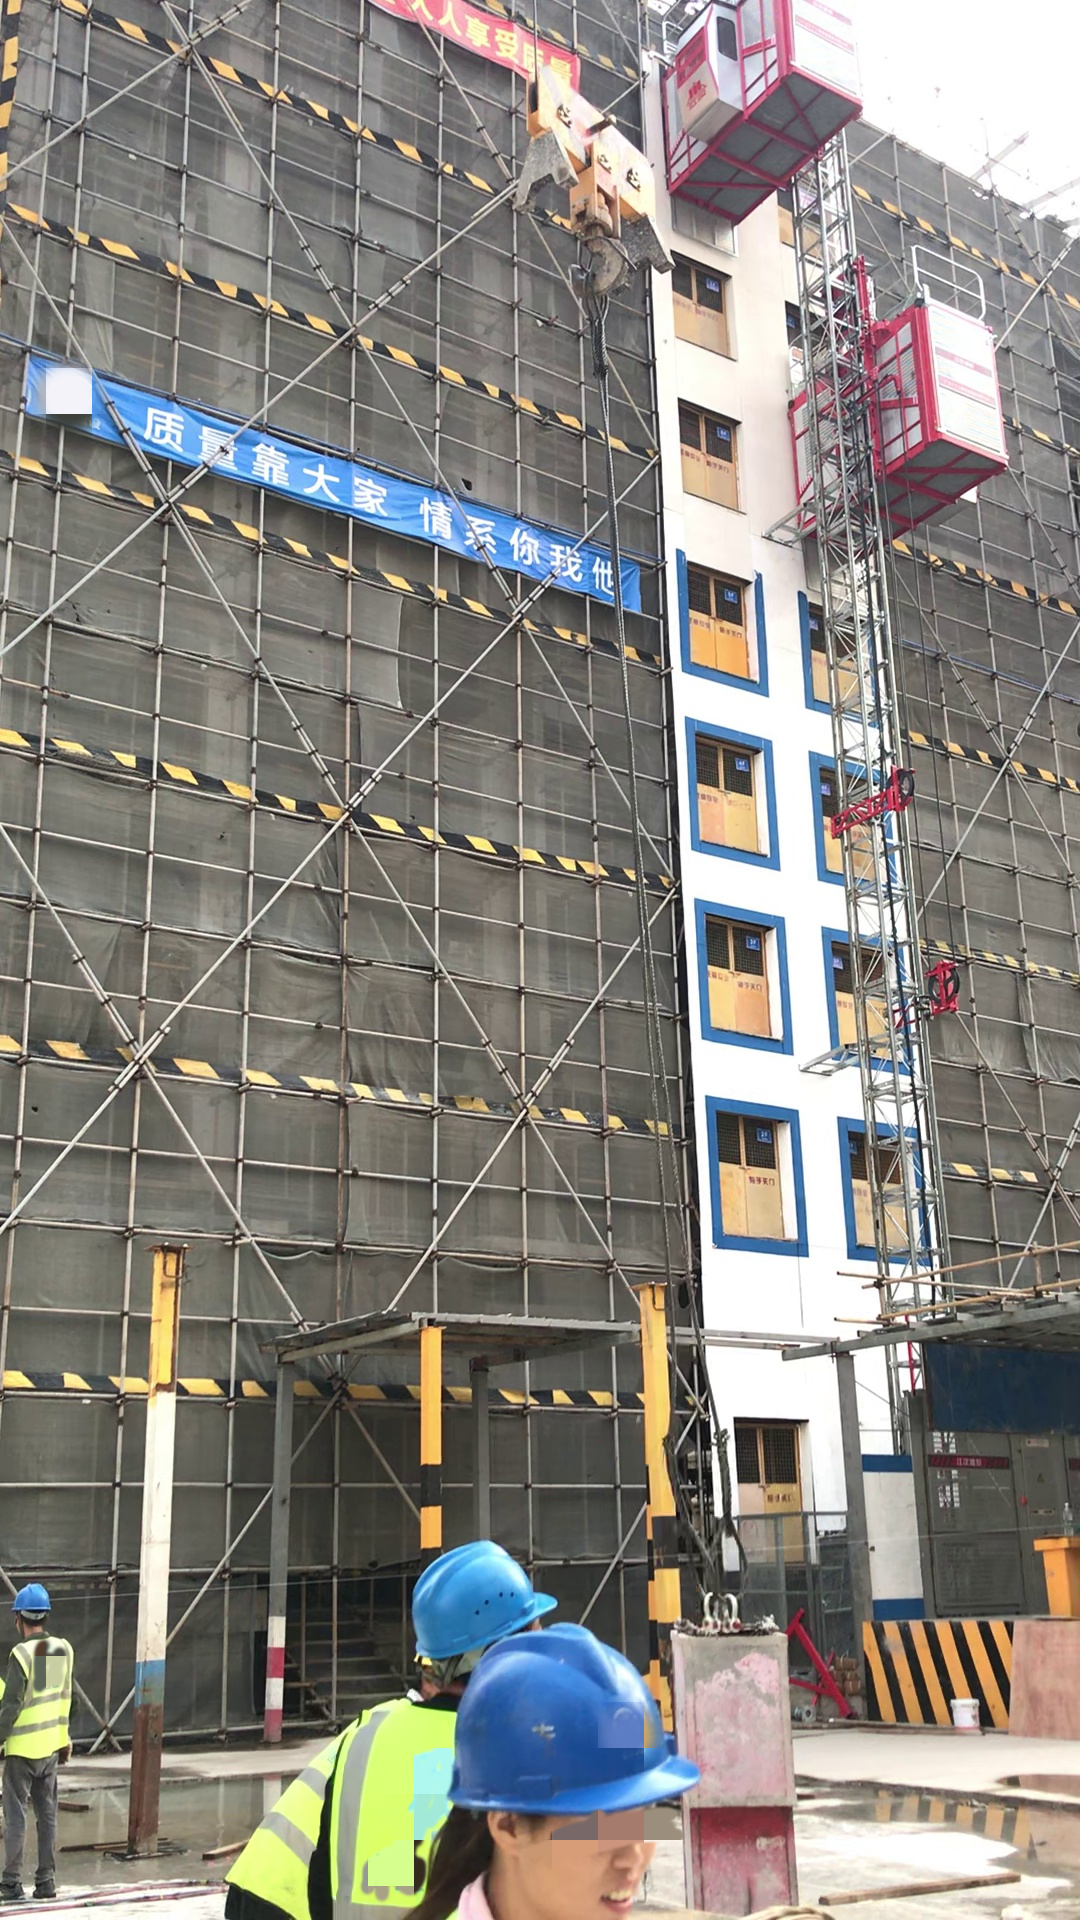helmet: (448, 1623, 702, 1817), (415, 1543, 559, 1659), (13, 1579, 53, 1612)
person: (330, 1542, 551, 1920), (424, 1638, 671, 1920), (3, 1579, 70, 1909)
vest: (240, 1715, 367, 1920), (340, 1719, 449, 1920), (14, 1640, 76, 1769)
